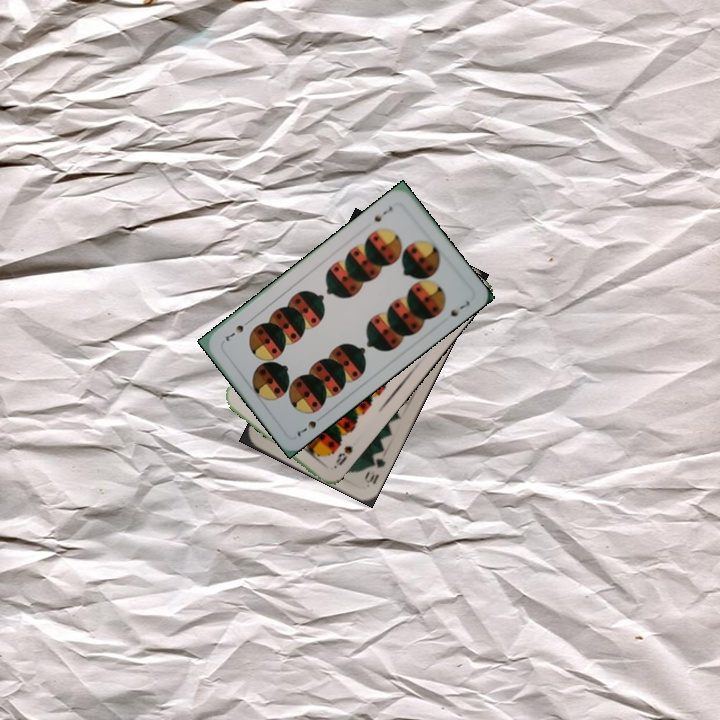G10: (360, 447, 388, 487)
S7: (293, 417, 319, 440), (370, 202, 395, 225)
S8: (329, 441, 355, 471)
